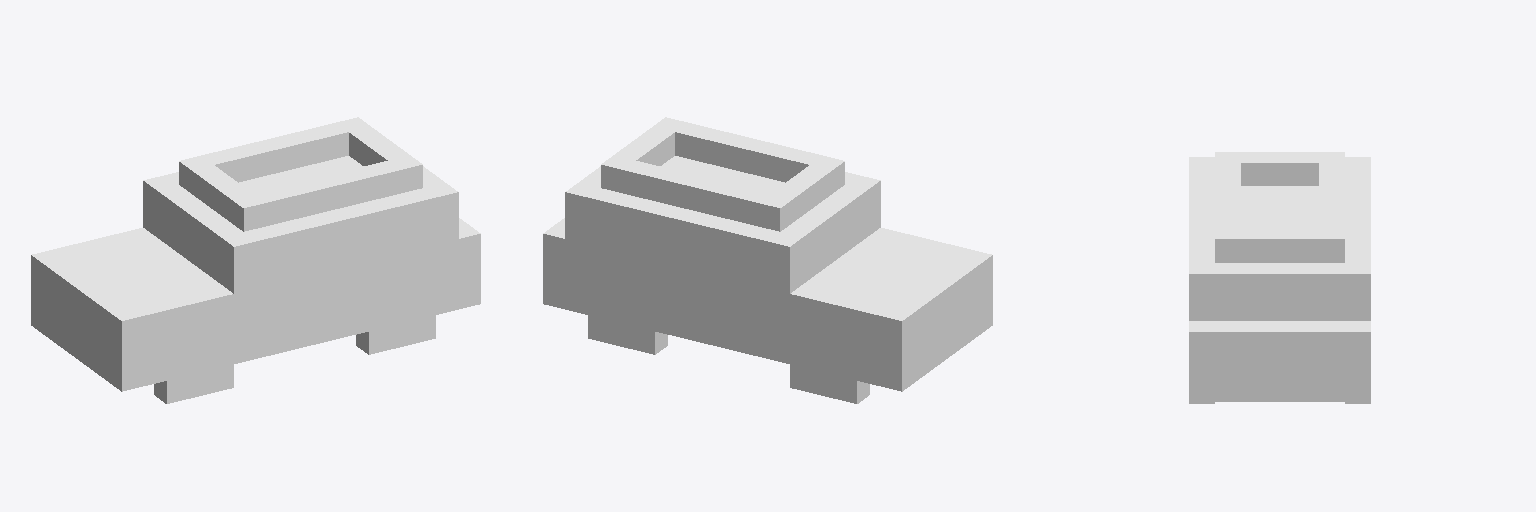
The model's file is cars-7.obj.
The picture shows the model from 3 angles: view 1: azimuth 30°, elevation 25°; view 2: azimuth 150°, elevation 25°; view 3: azimuth 270°, elevation 25°; orthographic projection.
Visible parts, largest first — view 1: object 1; view 2: object 1; view 3: object 1.
Part boxes in pixels (x1,y1,x2,y2): object 1: (31, 117, 480, 403); object 1: (543, 117, 992, 403); object 1: (1189, 152, 1370, 403).
Bounding box in the file's own units: 1.6 × 0.7 × 0.7.